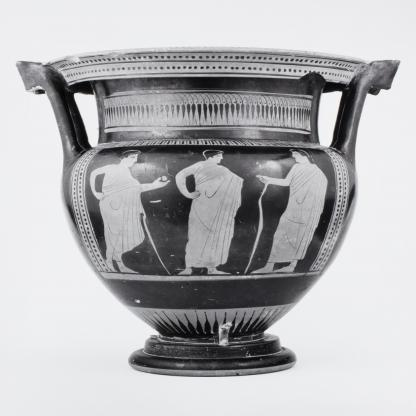vase: (13, 44, 402, 378)
